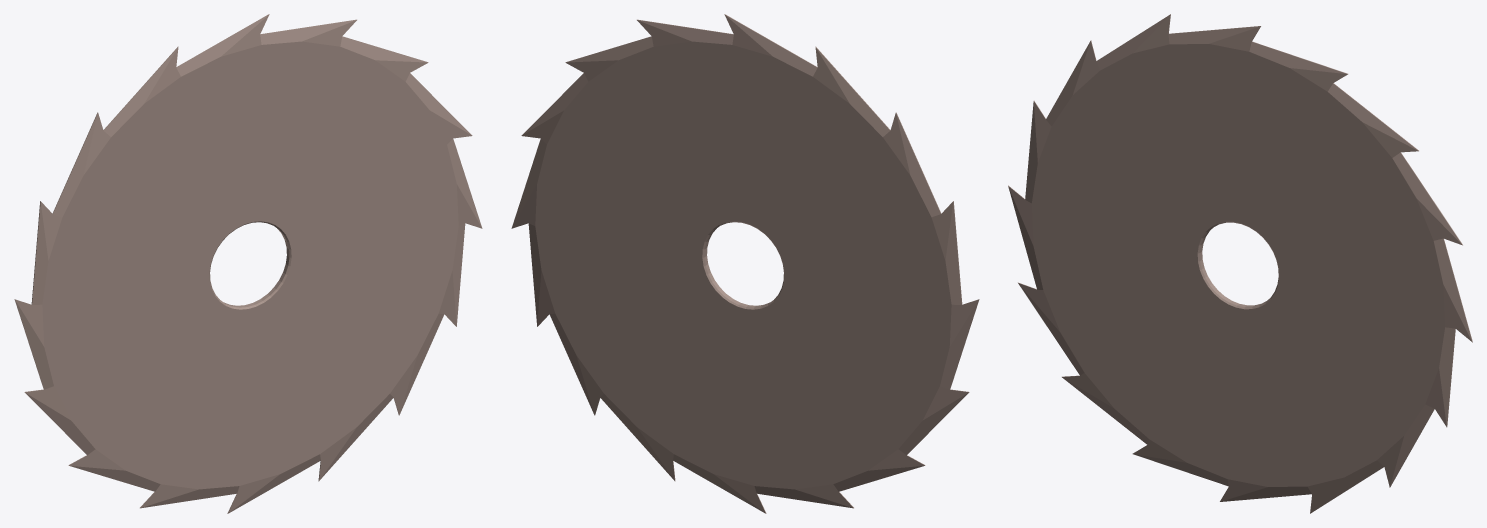
The model's file is sierra-circular_lowpoly.fbx.
3 renders of one model, left to right at view 1: azimuth 30°, elevation 25°; view 2: azimuth 150°, elevation 25°; view 3: azimuth 330°, elevation 25°, orthographic.
Visible parts, largest first — view 1: Cylinder.008; view 2: Cylinder.008; view 3: Cylinder.008.
Boxes of the visible parts, x1,y1,x2,y2 form: Cylinder.008: (14,14,482,513); Cylinder.008: (511,14,979,513); Cylinder.008: (1008,14,1472,513).
Bounding box in the file's own units: 298 × 298 × 4.52.
